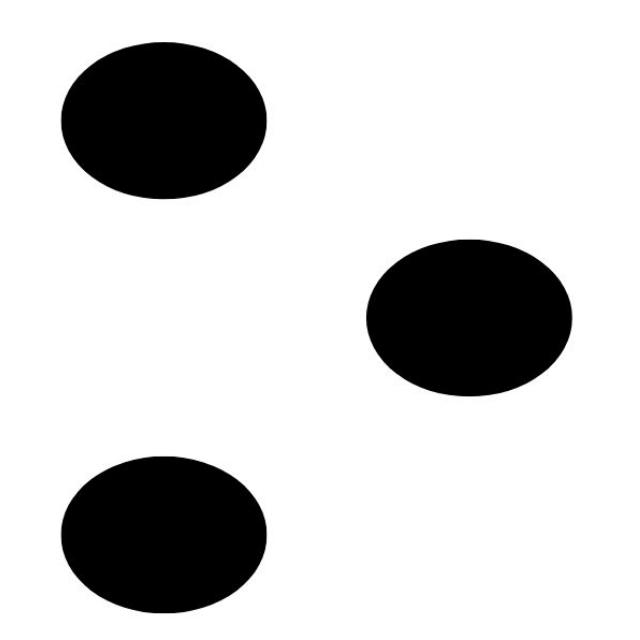letter_o: (60, 40, 571, 614)
